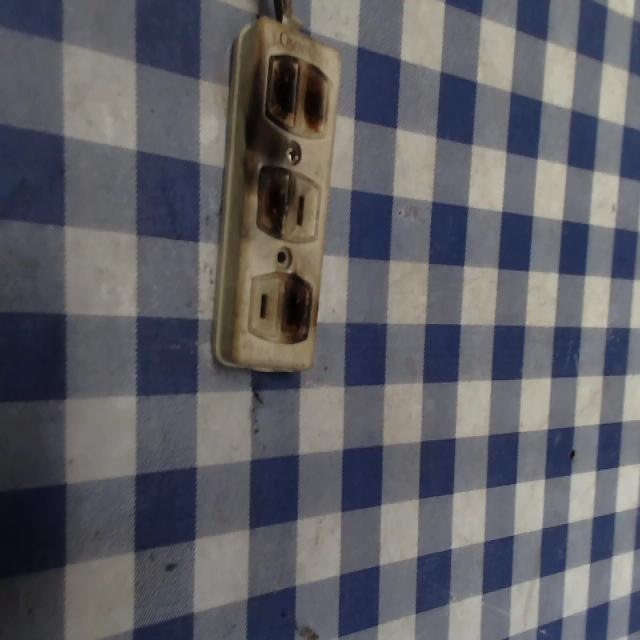-: (259, 43, 331, 138), (252, 157, 292, 247), (280, 272, 317, 348)
